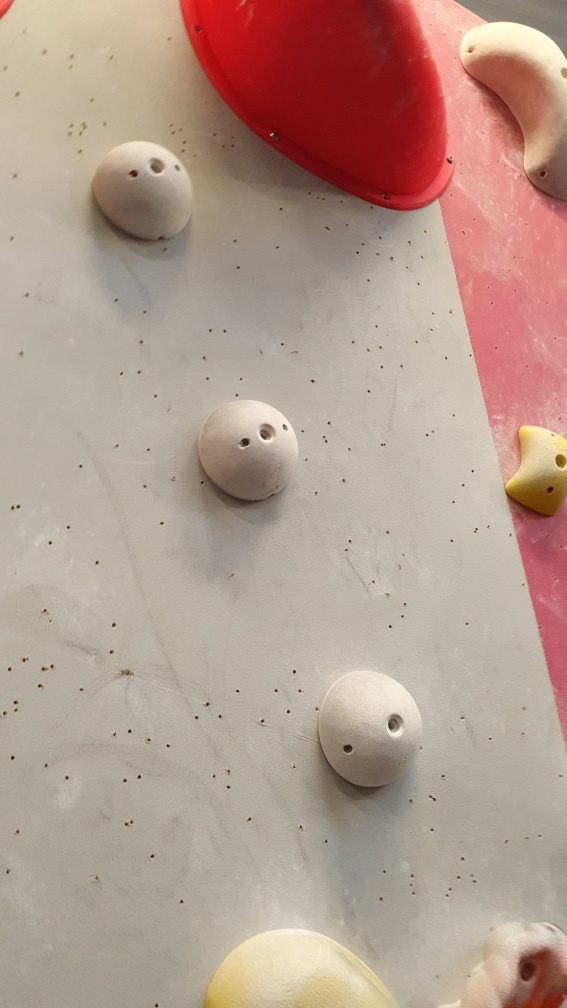Sloper: (317, 665, 427, 797), (199, 396, 304, 504), (93, 139, 198, 244)
